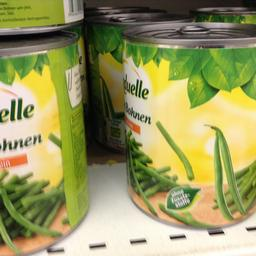beans: (118, 20, 255, 226), (0, 30, 89, 252)
